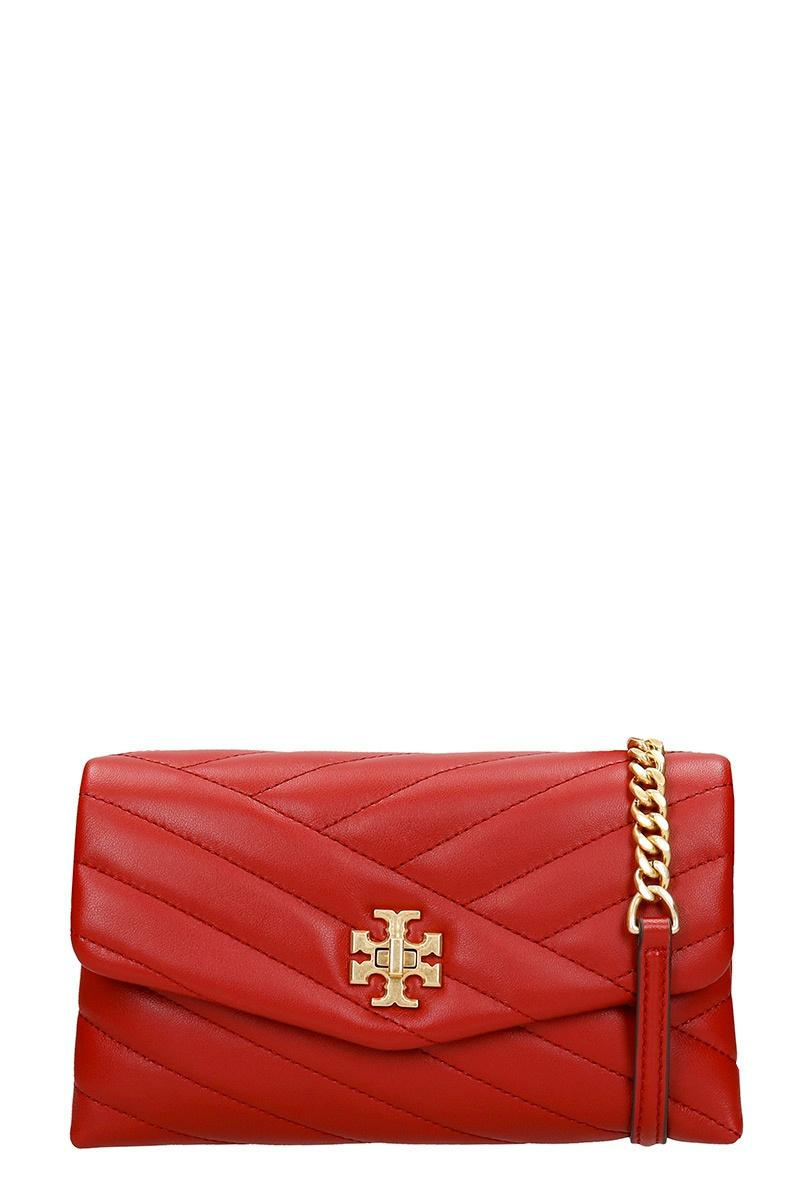TORY-BURCH: (351, 908, 444, 1009)
